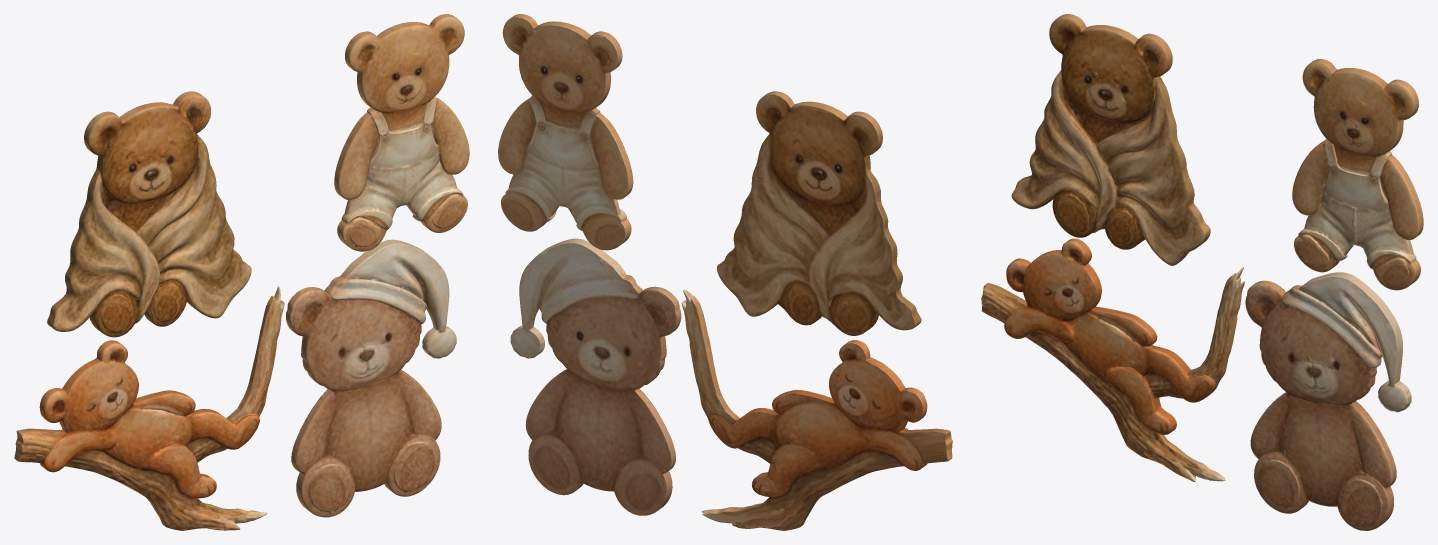
3 renders of one model, left to right at view 1: azimuth 30°, elevation 25°; view 2: azimuth 150°, elevation 25°; view 3: azimuth 330°, elevation 25°, orthographic. The views are drawn at different scales.
Visible parts, largest first — view 1: Mesh 3, Mesh 2, Mesh 1, Mesh 4; view 2: Mesh 3, Mesh 2, Mesh 1, Mesh 4; view 3: Mesh 3, Mesh 2, Mesh 1, Mesh 4.
Boxes of the visible parts, bbox=[...] form: Mesh 3: bbox=[286, 239, 456, 517]; Mesh 2: bbox=[47, 91, 251, 337]; Mesh 1: bbox=[14, 286, 284, 530]; Mesh 4: bbox=[334, 14, 469, 251]; Mesh 3: bbox=[510, 238, 681, 515]; Mesh 2: bbox=[717, 91, 921, 335]; Mesh 1: bbox=[681, 289, 952, 530]; Mesh 4: bbox=[498, 14, 633, 250]; Mesh 3: bbox=[1245, 272, 1411, 530]; Mesh 2: bbox=[1011, 14, 1210, 265]; Mesh 1: bbox=[981, 238, 1244, 481]; Mesh 4: bbox=[1292, 59, 1423, 290].
Bounding box in the file's own units: 1.9 × 1.9 × 0.0605.
4 materials, 4 textured.
